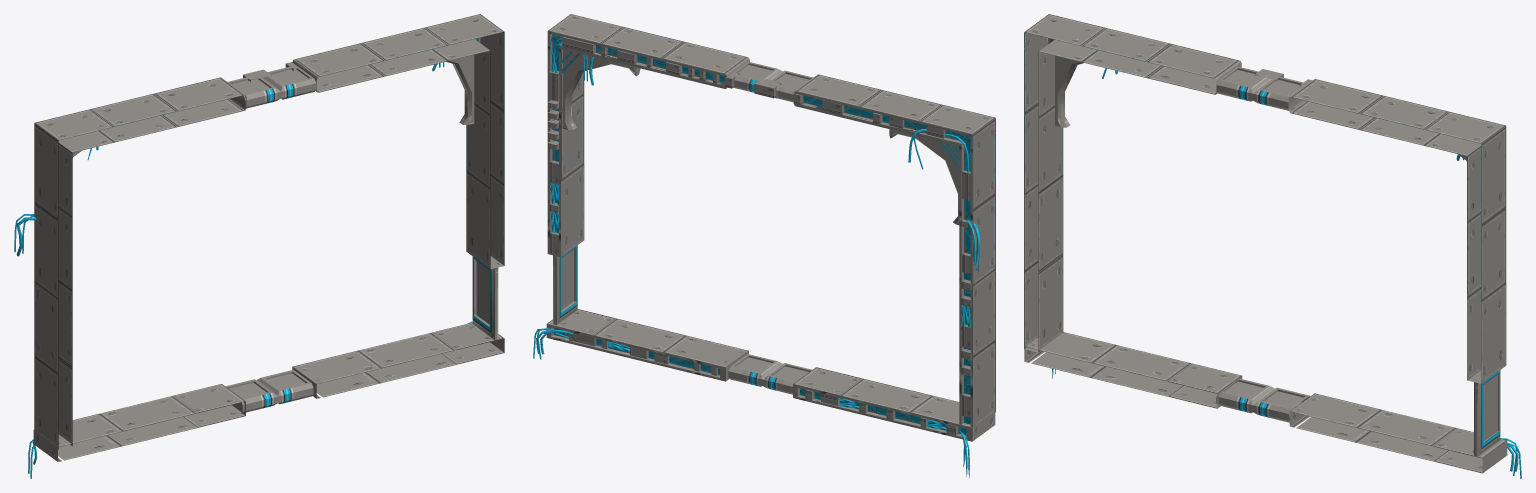
File: TestRoom4FixFBX.fbx
3 views of the same model, side by side, from view 1: azimuth 30°, elevation 25°; view 2: azimuth 150°, elevation 25°; view 3: azimuth 330°, elevation 25° (orthographic). The views are drawn at different scales.
Parts seen in each view (by area): view 1: CornerBase5, CornerBase10, wallPiece5, wallPiece4, TopDoorRight (×2), TopDoorLeft (×2), RightSideDoor, Arch; view 2: CornerBase5, CornerBase10, wallPiece5, wallPiece4, TopDoorRight (×2), RightSideDoor, TopDoorLeft (×2), Arch, Arch2; view 3: CornerBase5, CornerBase10, wallPiece5, wallPiece4, TopDoorLeft (×2), TopDoorRight (×2), RightSideDoor, Arch2.
Boxes of the visible parts, x1,y1,x2,y2 form: CornerBase5: (34, 77, 246, 449); CornerBase10: (292, 14, 504, 269); wallPiece5: (292, 322, 504, 398); wallPiece4: (33, 384, 245, 461); TopDoorRight (×2): (256, 65, 316, 404); TopDoorLeft (×2): (225, 74, 280, 413); RightSideDoor: (472, 256, 498, 339); Arch: (446, 39, 475, 124); CornerBase5: (793, 74, 995, 427); CornerBase10: (547, 14, 749, 257); wallPiece5: (546, 309, 748, 381); wallPiece4: (793, 367, 995, 441); TopDoorRight (×2): (728, 61, 782, 386); RightSideDoor: (553, 245, 577, 324); TopDoorLeft (×2): (762, 70, 813, 394); Arch: (562, 49, 640, 129); Arch2: (889, 129, 959, 224); CornerBase5: (1024, 14, 1241, 352); CornerBase10: (1288, 79, 1506, 383); wallPiece5: (1289, 393, 1507, 473); wallPiece4: (1024, 332, 1242, 408); TopDoorLeft (×2): (1216, 66, 1274, 413); TopDoorRight (×2): (1252, 76, 1310, 422); RightSideDoor: (1474, 370, 1500, 456); Arch2: (1053, 39, 1083, 127).
Bounding box in the file's own units: 33.73 × 24.56 × 4.09.
